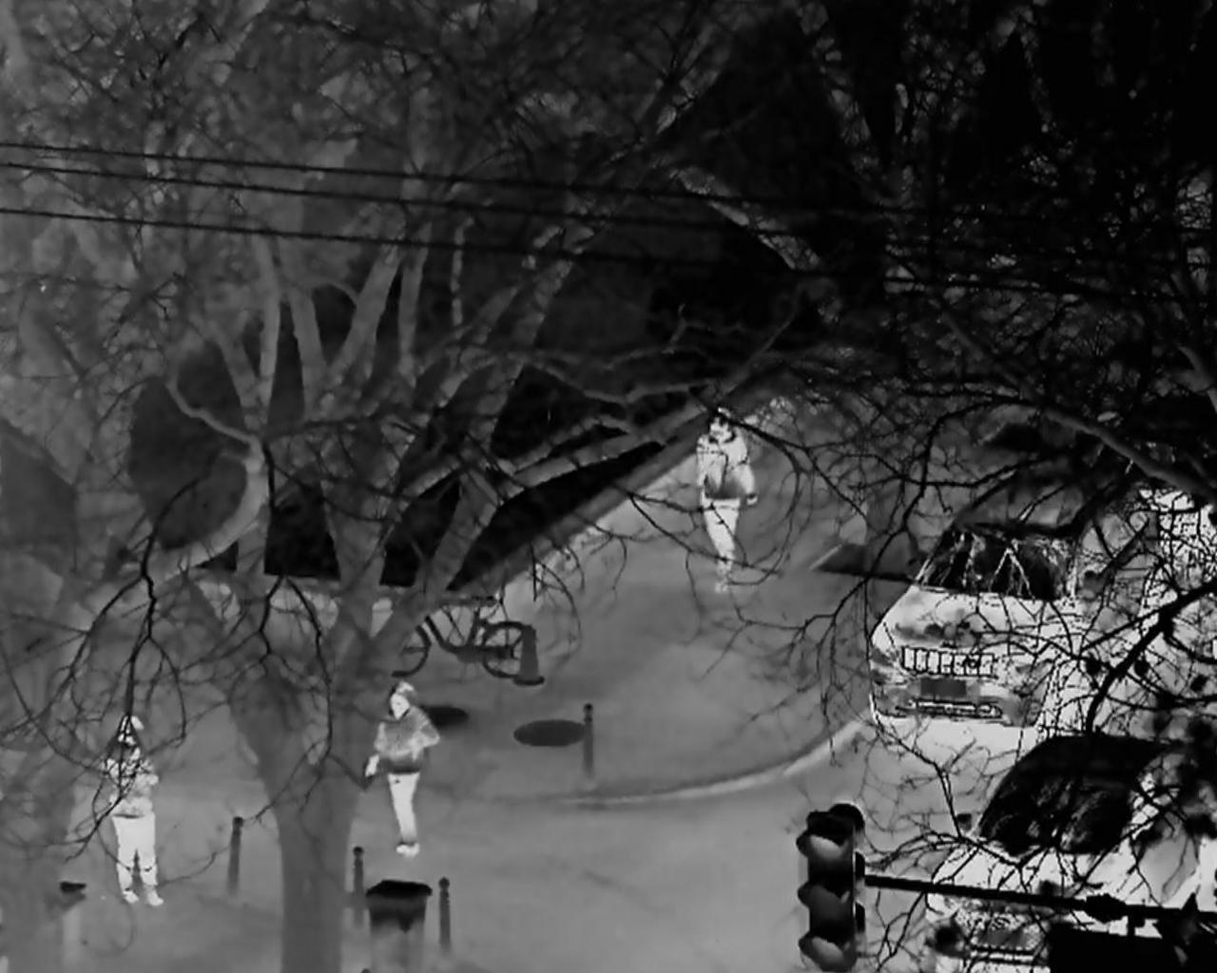person: (365, 680, 440, 858), (695, 409, 759, 594), (106, 715, 166, 908)
